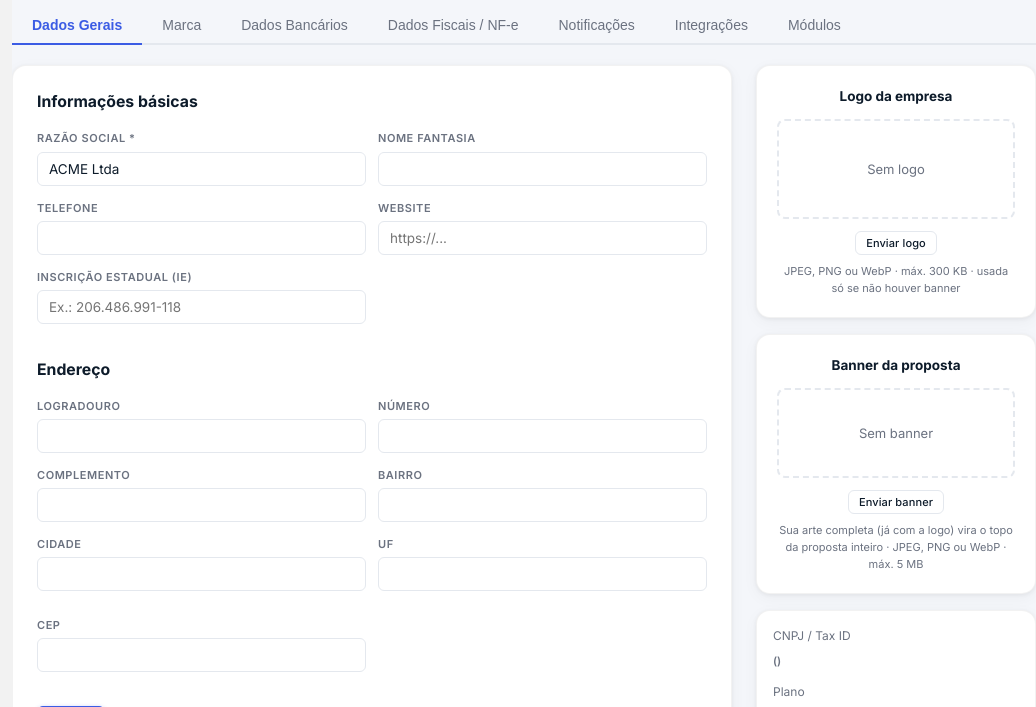
Test: CompanyPage — Integração Fiscal automatizada (regra 70) › nunca exibe o nome do provedor (Focus) em nenhum texto da tela
The image size is (1036, 707).
Expected: the field showing "ACME Ltda" below "Razão Social" is shown, [37,152,366,186]
Click the button "Dados Fiscais / NF-e": (453, 26) [368,7,538,45]
(page scrolled)
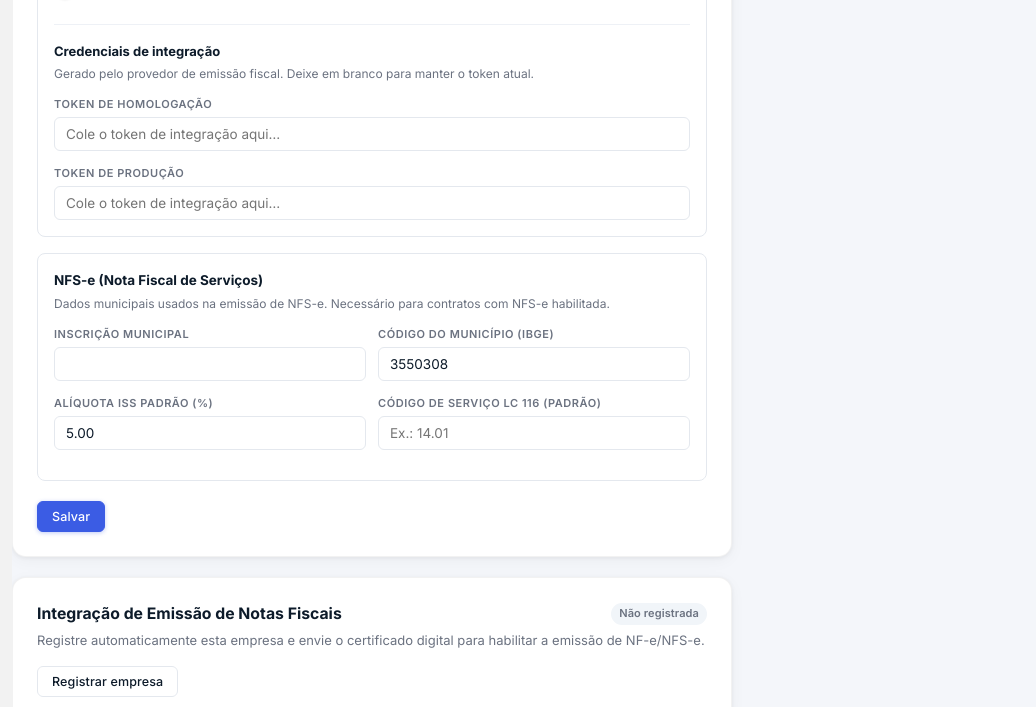
Now the heading "Integração de Emissão de Notas Fiscais" is shown, box [37,602,342,626]
